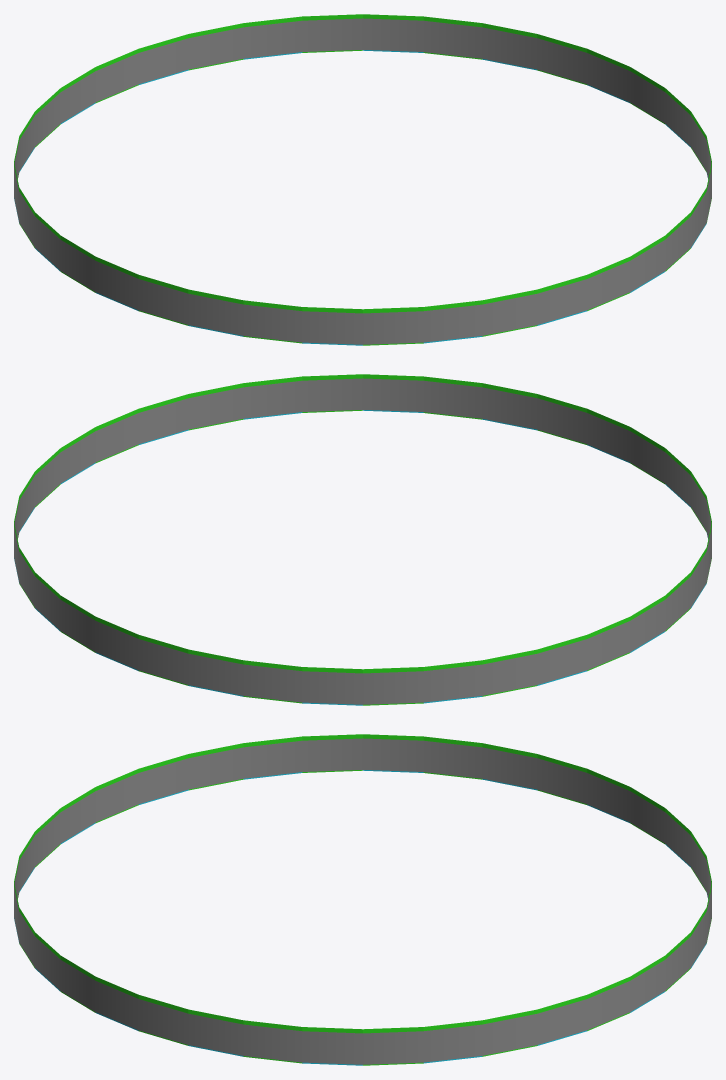
The model's file is Horz Ring.FBX.
3 views of the same model, one above another, from view 1: azimuth 30°, elevation 25°; view 2: azimuth 150°, elevation 25°; view 3: azimuth 270°, elevation 25° (orthographic).
Visible parts, largest first — view 1: Cylinder001; view 2: Cylinder001; view 3: Cylinder001.
Boxes of the visible parts, x1=… form: Cylinder001: x1=14, y1=14, x2=711, y2=345; Cylinder001: x1=14, y1=374, x2=711, y2=705; Cylinder001: x1=14, y1=734, x2=711, y2=1065.
Bounding box in the file's own units: 113483 × 6558 × 113483.
